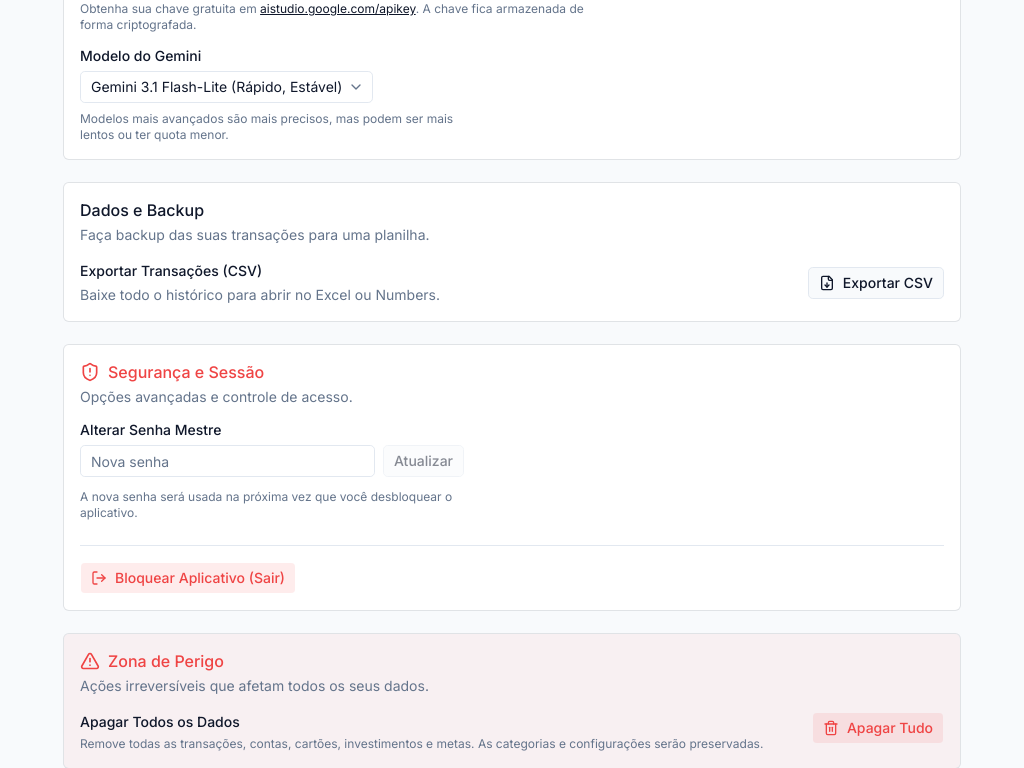
Test: SettingsPage › updates password successfully after confirmation
(page scrolled)
Type "senha123" into the password field with placeholder "Nova senha" at {"x": 228, "y": 461}, box [80, 445, 375, 477]
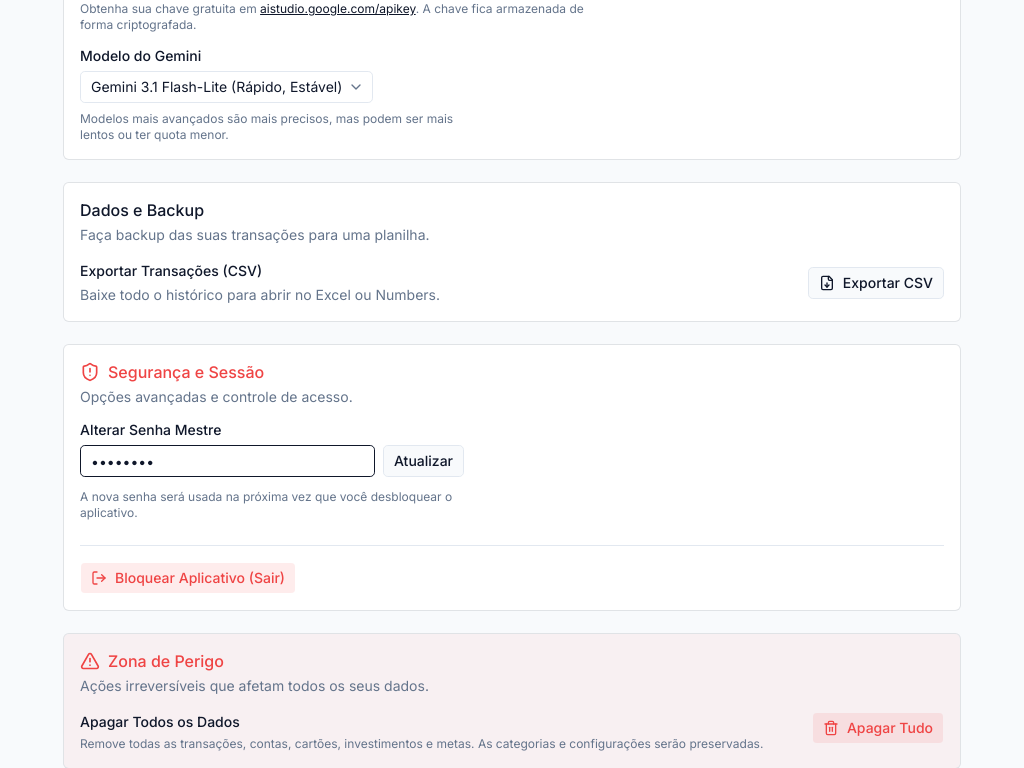
Click the button "Atualizar" at {"x": 424, "y": 461}, box [383, 445, 464, 477]
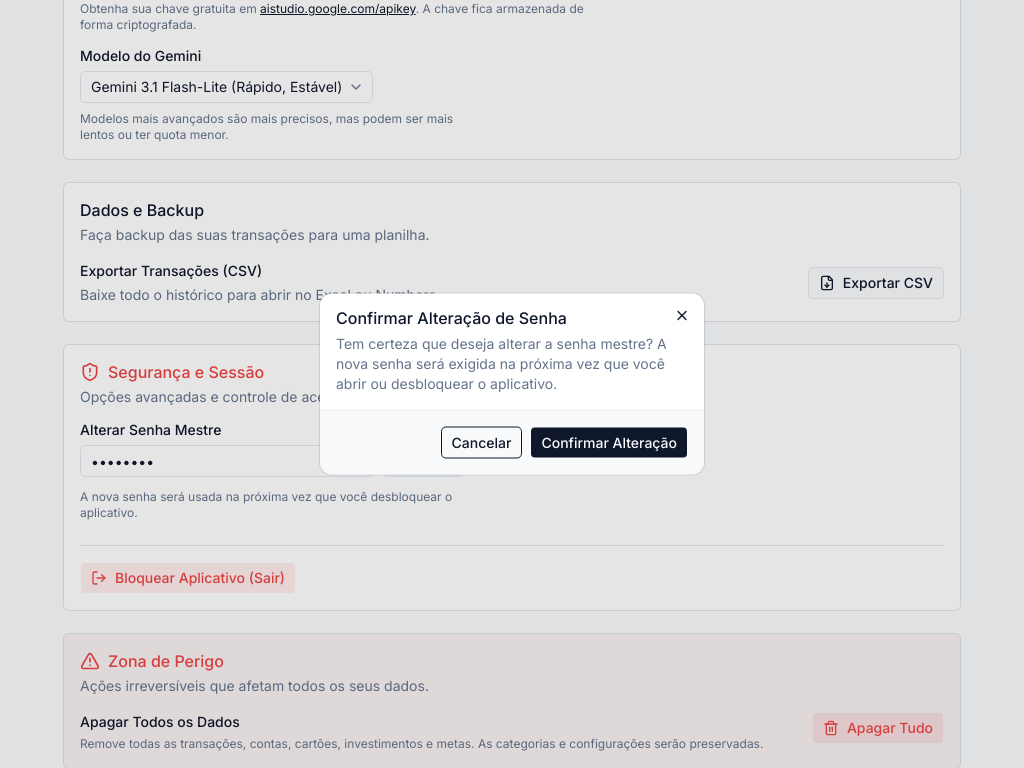
Click the button "Confirmar Alteração" at {"x": 609, "y": 442}, box [530, 426, 688, 458]
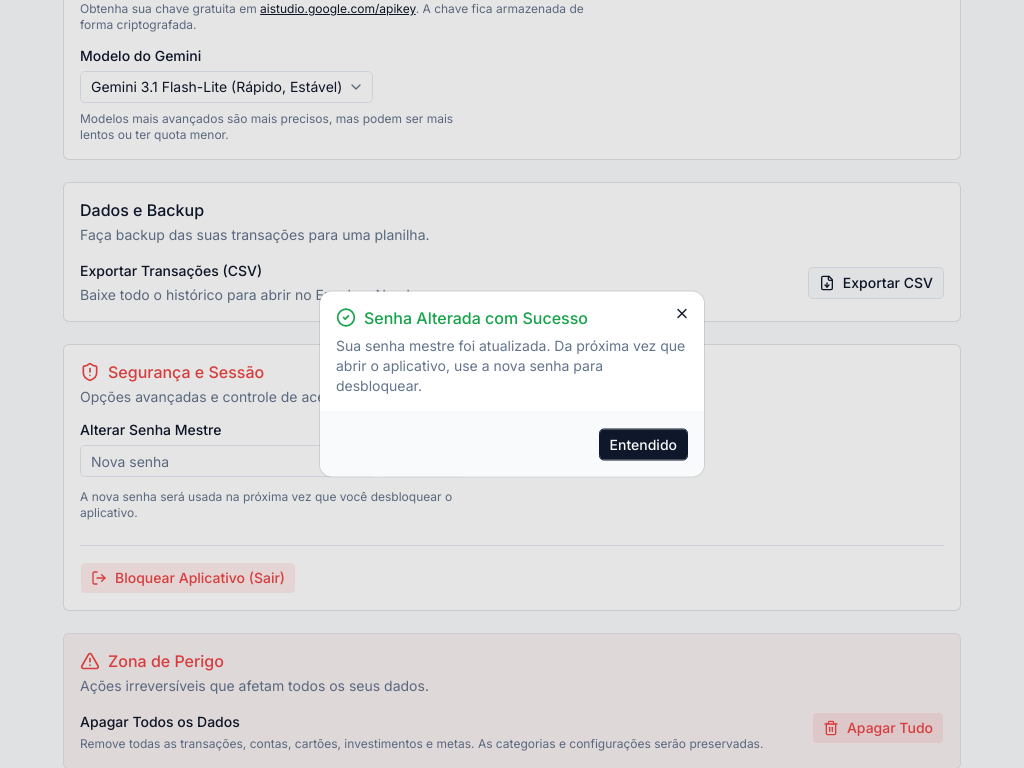
Expected: the heading "Senha Alterada com Sucesso" is shown, [336, 308, 588, 328]
